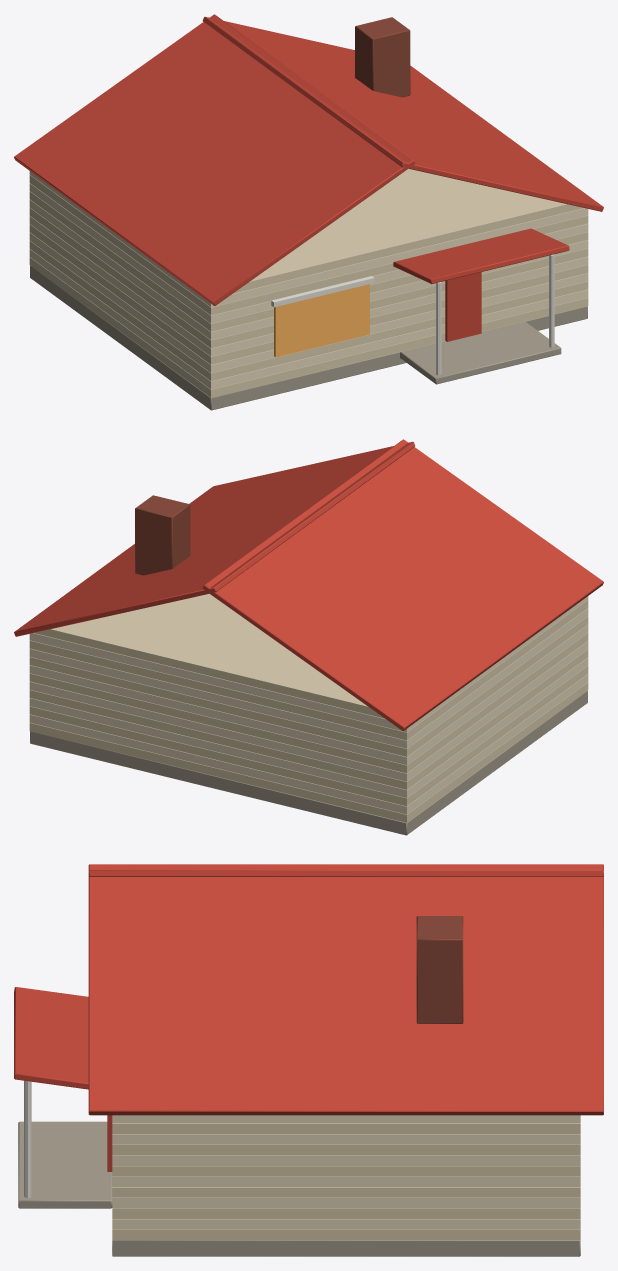
The model's file is fifties_house.glb.
3 renders of one model, top to bottom at view 1: azimuth 30°, elevation 25°; view 2: azimuth 150°, elevation 25°; view 3: azimuth 270°, elevation 25°, orthographic. The views are drawn at different scales.
Visible parts, largest first — view 1: fifties_house; view 2: fifties_house; view 3: fifties_house.
Part boxes in pixels (x1,y1,x2,y2): fifties_house: (14,14,603,410); fifties_house: (14,439,603,835); fifties_house: (14,864,603,1256).
Bounding box in the file's own units: 12.44 × 6.6 × 12.6.
